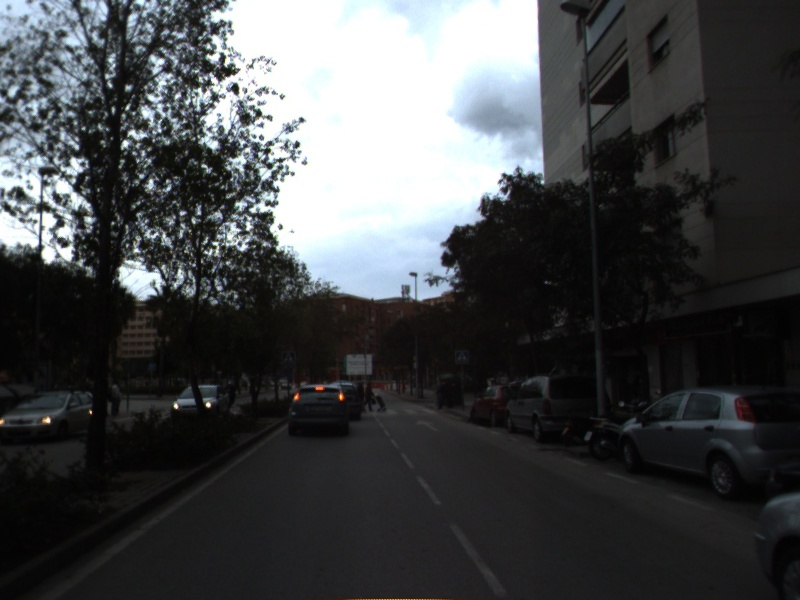STRAIGHT: (414, 418, 440, 433)
